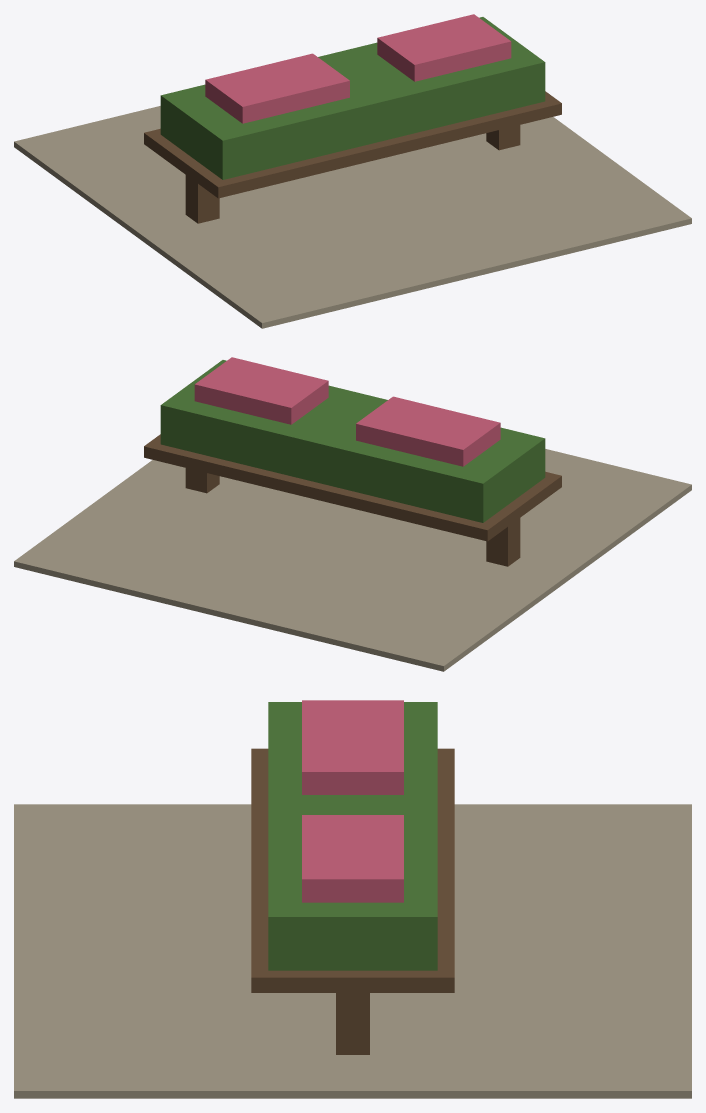
Rendered from plant-bench.glb.
3 views of the same model, one above another, from view 1: azimuth 30°, elevation 25°; view 2: azimuth 150°, elevation 25°; view 3: azimuth 270°, elevation 25° (orthographic). The views are drawn at different scales.
Parts seen in each view (by area): view 1: plant-bench; view 2: plant-bench; view 3: plant-bench.
Boxes of the visible parts, x1,y1,x2,y2 form: plant-bench: (14, 14, 691, 328); plant-bench: (14, 357, 691, 671); plant-bench: (14, 700, 691, 1098).
Bounding box in the file's own units: 4 × 1.1 × 4.
